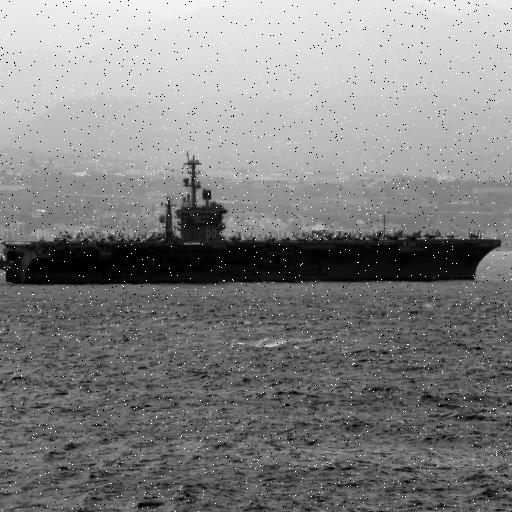Portanaves: (1, 148, 508, 292)
